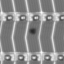dust: (29, 28, 36, 33)
